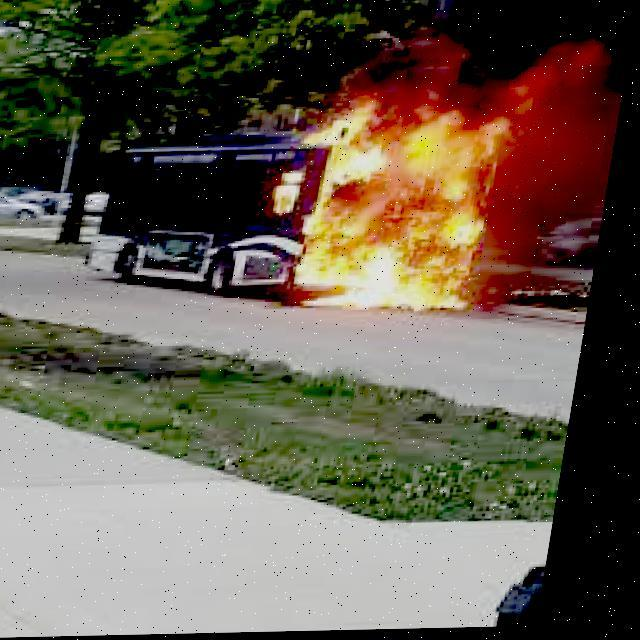Fire: (270, 82, 546, 316)
